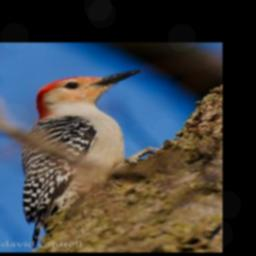Woodpecker: (21, 66, 143, 247)
